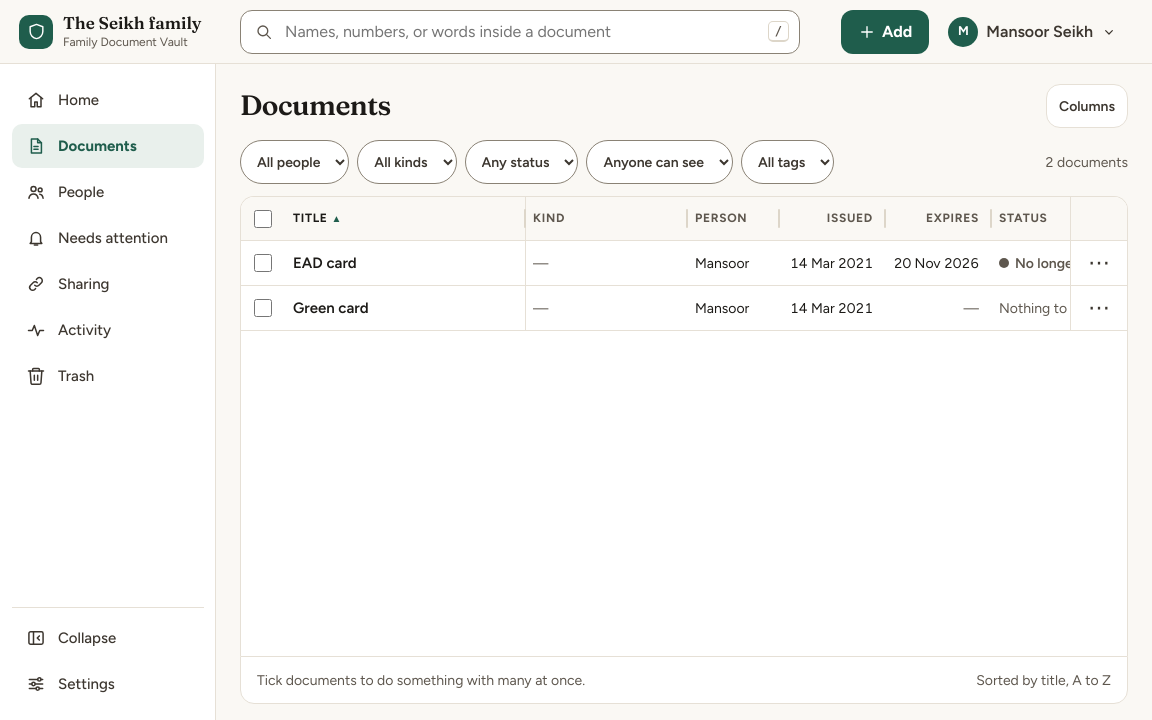
Test case: no longer needed, on the web (0.9.0) › the Documents table filters by it, among Any status
The image size is (1152, 720).
Expected: the text "EAD card" is shown, [293,254,357,272]
Select "No longer needed" in the 3rd dropdown named "Status" at (522, 162), box [465,140,578,184]
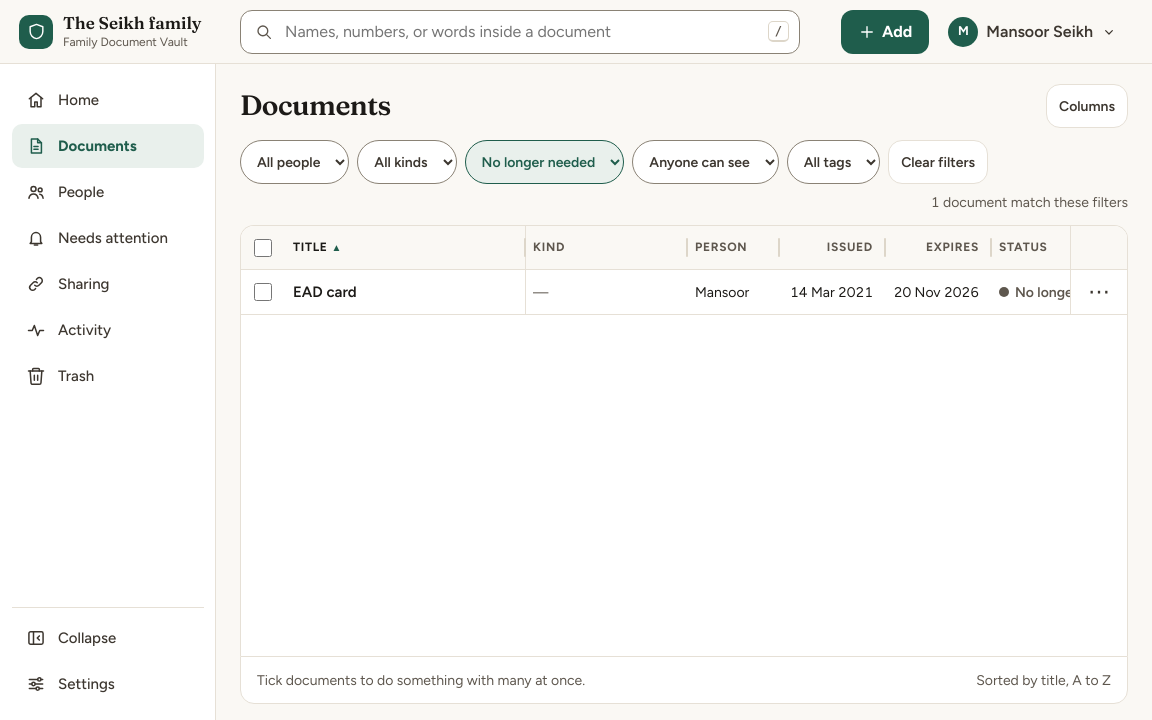
Expected: the text "EAD card" is shown, [293,283,357,301]
Expected: the link "Green card" is gone
Note: Expiring soon: not among them.
Select "Expiring soon" in the 3rd dropdown named "Status" at (544, 162), box [465,140,624,184]
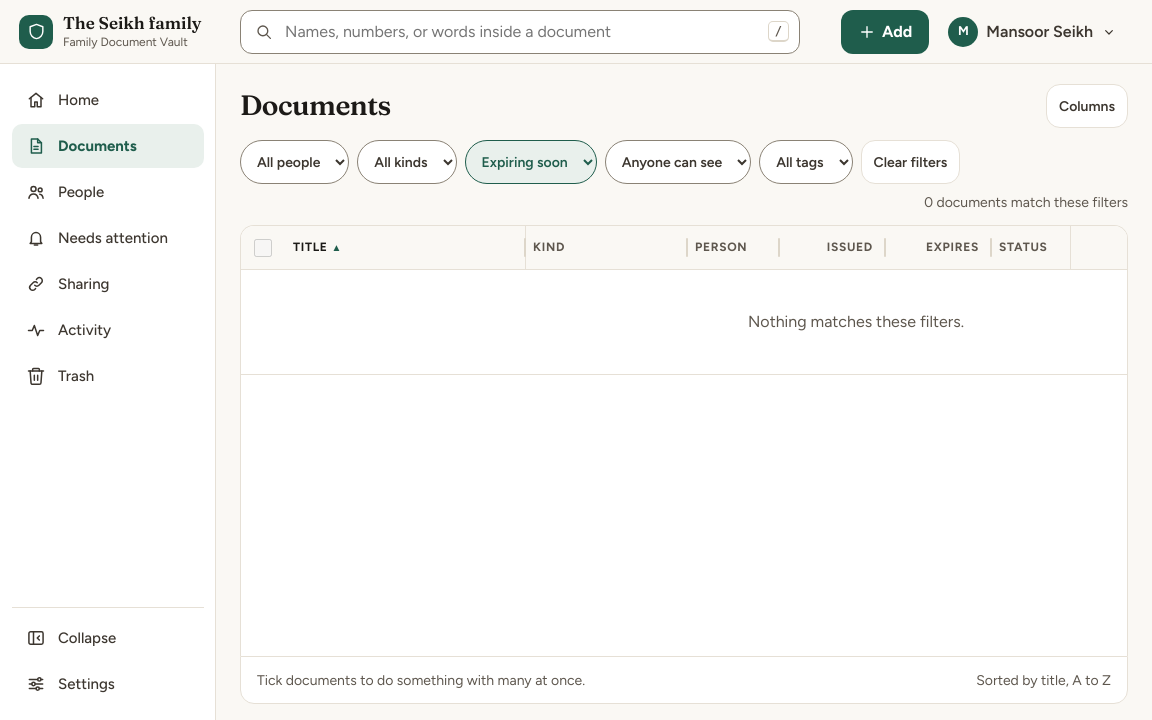
Expected: the link "EAD card" is gone
